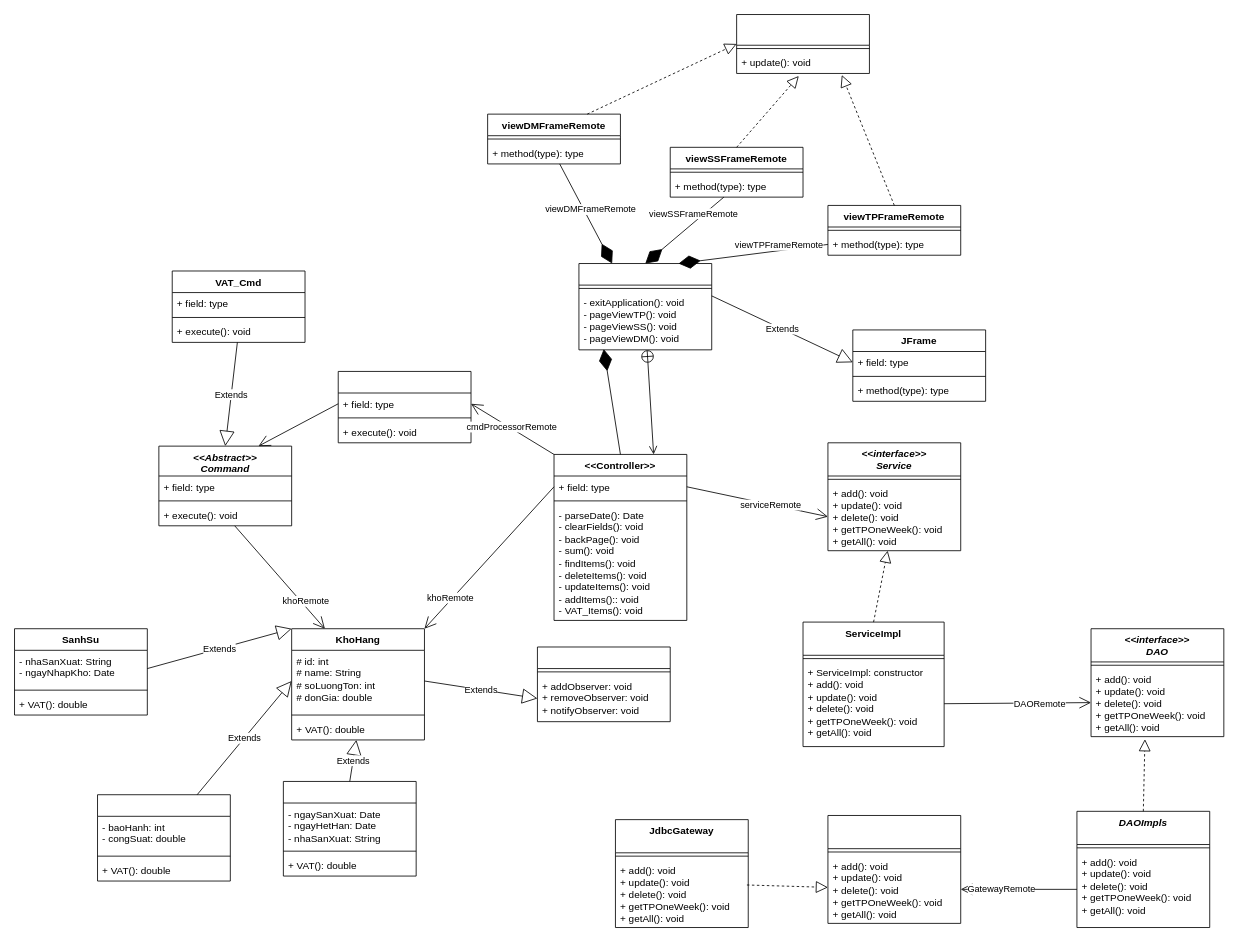
Image size: 1238x945. Some labels were removed from this diagram. The shapes that lost their labels are listed below. From the top down, each one's box as (x1, y1, x2, y2) in pixels, then its label:
(736, 14, 869, 73): <<interface>> Subcriber
(578, 263, 712, 350): ManagementApp
(337, 371, 471, 443): Cmd_Processor
(537, 646, 670, 722): Publisher
(97, 794, 230, 881): DienMay
(283, 781, 416, 876): ThucPham
(827, 815, 961, 923): <<interface>> Gateway
